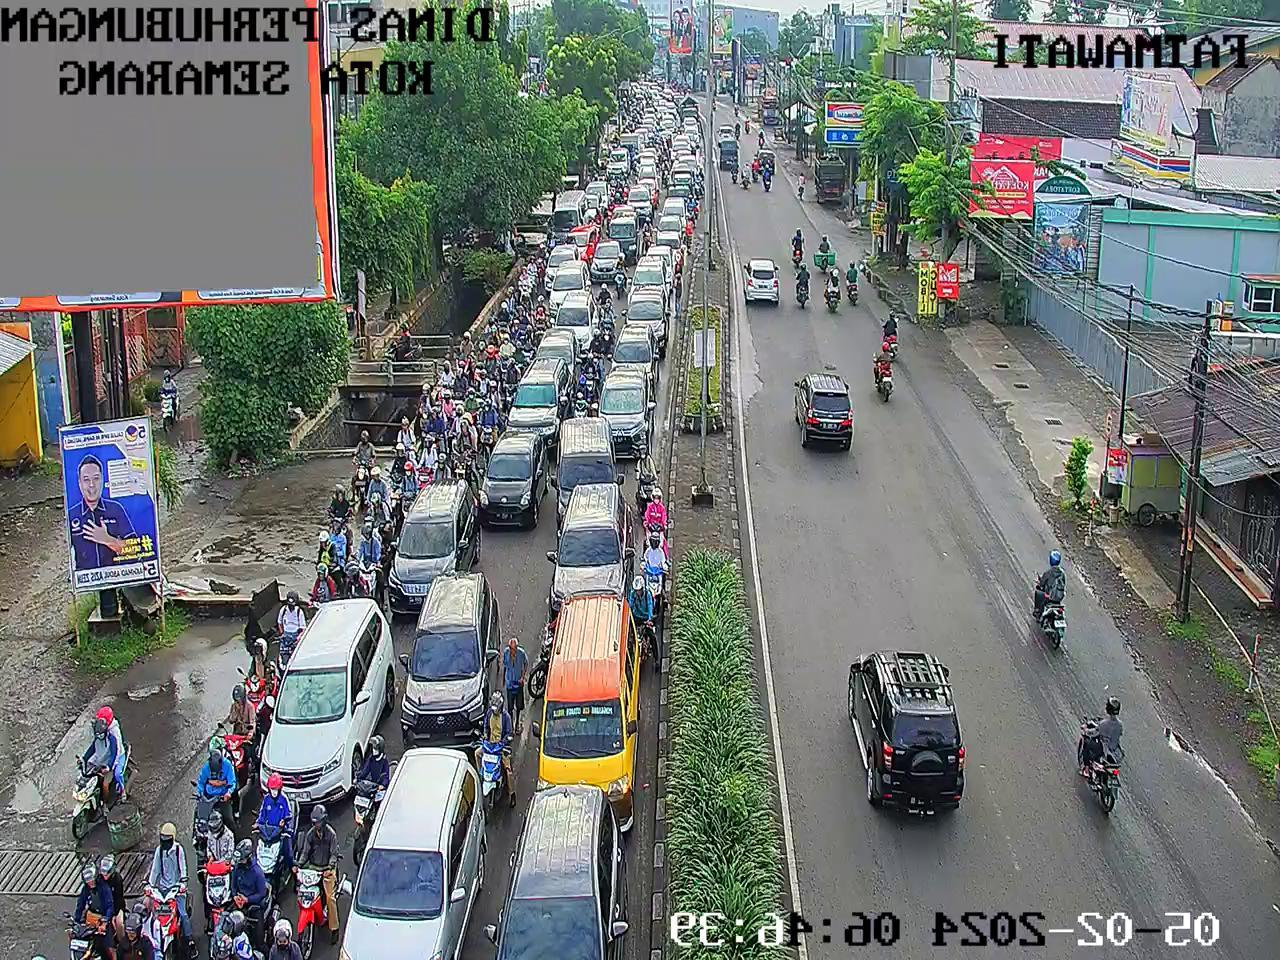car: (334, 746, 496, 960), (242, 596, 394, 793), (526, 589, 636, 852), (497, 763, 619, 960), (398, 571, 495, 749), (543, 471, 633, 627), (381, 472, 476, 612), (562, 411, 614, 525), (485, 427, 538, 532), (511, 354, 566, 452), (600, 362, 651, 452), (604, 321, 656, 390), (628, 283, 671, 359), (533, 324, 580, 387), (559, 292, 600, 357), (549, 259, 589, 314), (547, 234, 578, 297), (551, 191, 586, 239), (611, 205, 635, 266), (647, 243, 675, 287), (570, 223, 596, 266), (659, 196, 686, 229), (594, 240, 615, 279), (627, 182, 647, 220), (658, 214, 681, 246), (604, 148, 627, 178), (638, 146, 655, 178), (589, 176, 605, 210), (638, 178, 655, 203), (675, 152, 700, 167), (682, 99, 700, 118), (662, 108, 679, 128), (684, 114, 700, 135), (622, 132, 637, 153), (669, 186, 687, 199), (674, 137, 688, 153), (672, 174, 688, 188), (631, 77, 640, 98), (635, 127, 646, 143), (640, 82, 659, 91), (643, 114, 655, 127), (686, 134, 702, 142), (663, 87, 673, 97), (659, 98, 670, 106), (674, 95, 684, 103), (646, 107, 653, 116), (652, 94, 662, 100), (665, 103, 676, 108)
motorcycle: (61, 701, 129, 841), (283, 798, 338, 954), (342, 711, 393, 874), (181, 733, 239, 866), (137, 818, 190, 953), (66, 853, 130, 960), (470, 686, 514, 814), (225, 633, 278, 737), (198, 798, 238, 917), (225, 833, 266, 941), (219, 677, 256, 790), (266, 584, 311, 670), (525, 608, 555, 705), (499, 632, 531, 720), (344, 428, 377, 505), (627, 569, 654, 659), (266, 911, 308, 960), (640, 528, 666, 608), (380, 437, 407, 513), (219, 899, 250, 960), (641, 480, 665, 552), (454, 411, 478, 483), (323, 481, 353, 537), (637, 435, 658, 512), (370, 488, 397, 547), (355, 525, 383, 578), (407, 385, 433, 436), (326, 512, 350, 567), (365, 464, 387, 521), (311, 529, 337, 577), (401, 461, 423, 512), (455, 332, 476, 381), (480, 399, 499, 453), (611, 249, 633, 294), (501, 354, 521, 400), (589, 330, 610, 373), (673, 245, 688, 299), (313, 560, 332, 602), (510, 307, 530, 344), (344, 564, 365, 598), (423, 435, 440, 477), (583, 359, 601, 398), (479, 316, 497, 350), (642, 214, 657, 251), (429, 401, 446, 434), (525, 253, 544, 280), (483, 340, 499, 372), (574, 387, 593, 415), (400, 414, 416, 446), (532, 304, 548, 335), (494, 304, 511, 333), (437, 446, 451, 480), (520, 267, 535, 295), (597, 282, 613, 308), (438, 363, 453, 389), (444, 390, 459, 415), (510, 282, 526, 304), (465, 385, 479, 408), (605, 196, 616, 225), (501, 333, 513, 358), (694, 166, 706, 194), (602, 320, 616, 340), (628, 149, 640, 172), (658, 156, 669, 182), (601, 306, 617, 323), (488, 376, 500, 398), (688, 194, 696, 225), (545, 228, 556, 249), (622, 172, 632, 194), (593, 209, 604, 227), (537, 296, 548, 312), (598, 159, 606, 179), (346, 607, 354, 624), (665, 134, 672, 152), (617, 181, 624, 198), (661, 146, 668, 162), (637, 97, 644, 112), (647, 93, 654, 107), (631, 113, 641, 122), (621, 125, 631, 132), (627, 122, 635, 130), (691, 148, 699, 155), (679, 122, 684, 132), (671, 91, 675, 101)
